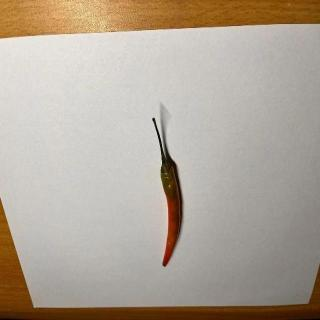Cabai Merah: (152, 118, 182, 268)
